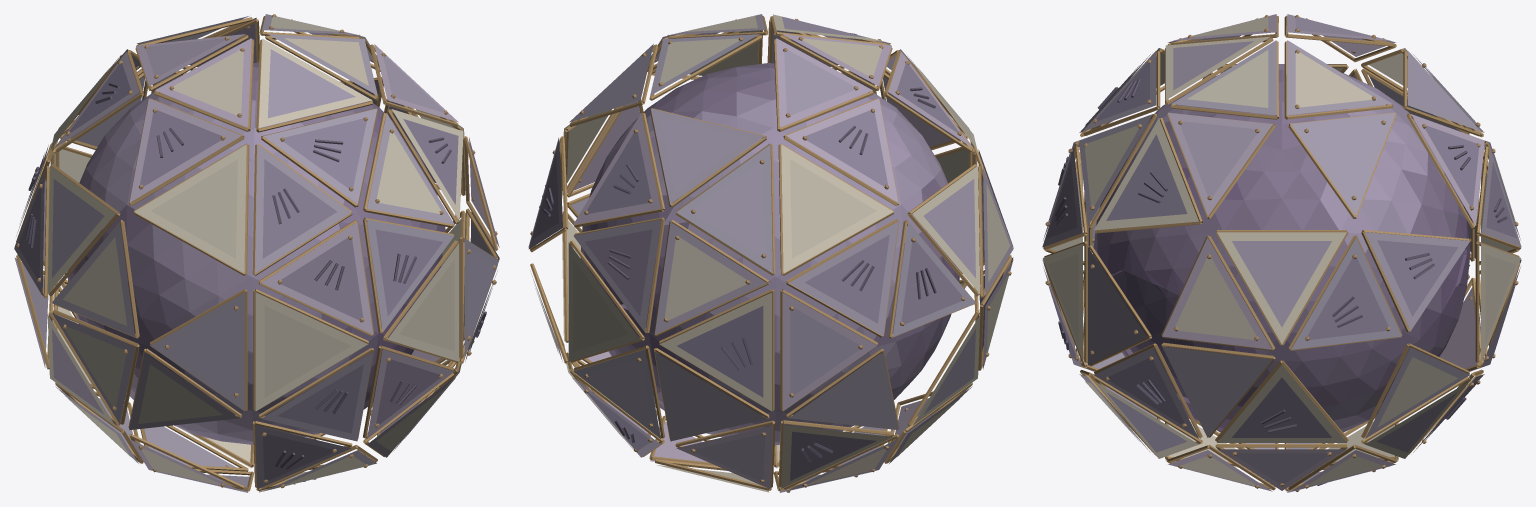
The model's file is earth-mobile.glb.
3 views of the same model, side by side, from view 1: azimuth 30°, elevation 25°; view 2: azimuth 150°, elevation 25°; view 3: azimuth 270°, elevation 25° (orthographic).
Parts seen in each view (by area): view 1: Structures • modeled surfaces, Terrain • modeled surfaces; view 2: Structures • modeled surfaces, Terrain • modeled surfaces; view 3: Structures • modeled surfaces, Terrain • modeled surfaces.
Part boxes in pixels (x1,y1,x2,y2): Structures • modeled surfaces: (14, 14, 499, 492); Terrain • modeled surfaces: (67, 62, 445, 444); Structures • modeled surfaces: (528, 14, 1013, 492); Terrain • modeled surfaces: (580, 63, 959, 445); Structures • modeled surfaces: (1042, 14, 1521, 492); Terrain • modeled surfaces: (1093, 64, 1470, 432).
Size of the model in its own units: 2.16 by 2.16 by 2.16.
